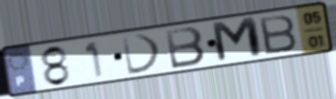1: (82, 39, 106, 80)
8: (37, 43, 72, 88)
B: (162, 25, 208, 71), (256, 13, 300, 57)
D: (120, 32, 165, 77)
M: (208, 15, 266, 65)
